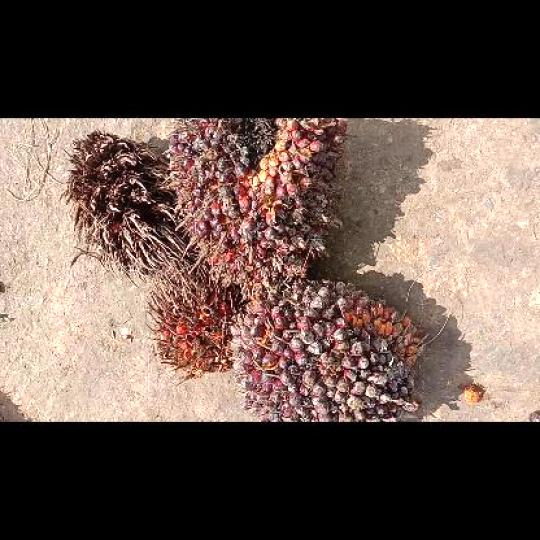kurang masak: (228, 273, 429, 420)
masak: (161, 118, 350, 292)
terlalu masak: (141, 263, 238, 381)
